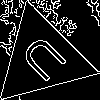U: (17, 33, 76, 91)
